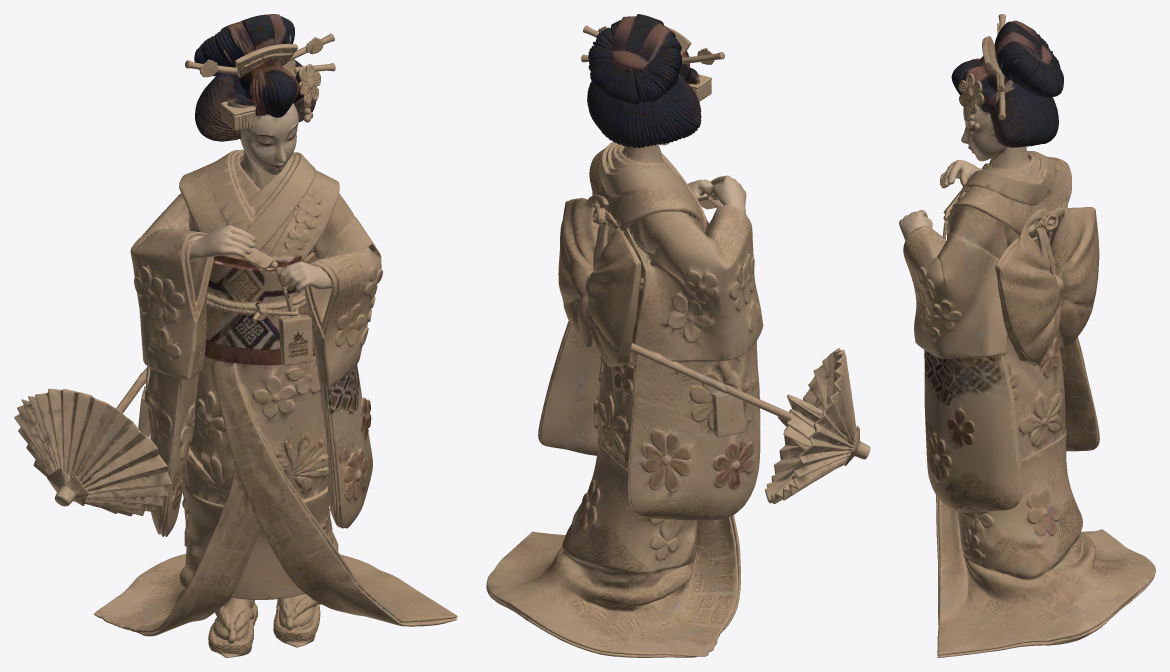
The model's file is Meshy_AI_Cardboard_Geisha_1021161411_texture.glb.
3 views of the same model, side by side, from view 1: azimuth 30°, elevation 25°; view 2: azimuth 150°, elevation 25°; view 3: azimuth 270°, elevation 25° (orthographic). The views are drawn at different scales.
Bounding box in the file's own units: 1.22 × 1.9 × 0.7838.
Materials: 1 (1 with a texture image).
